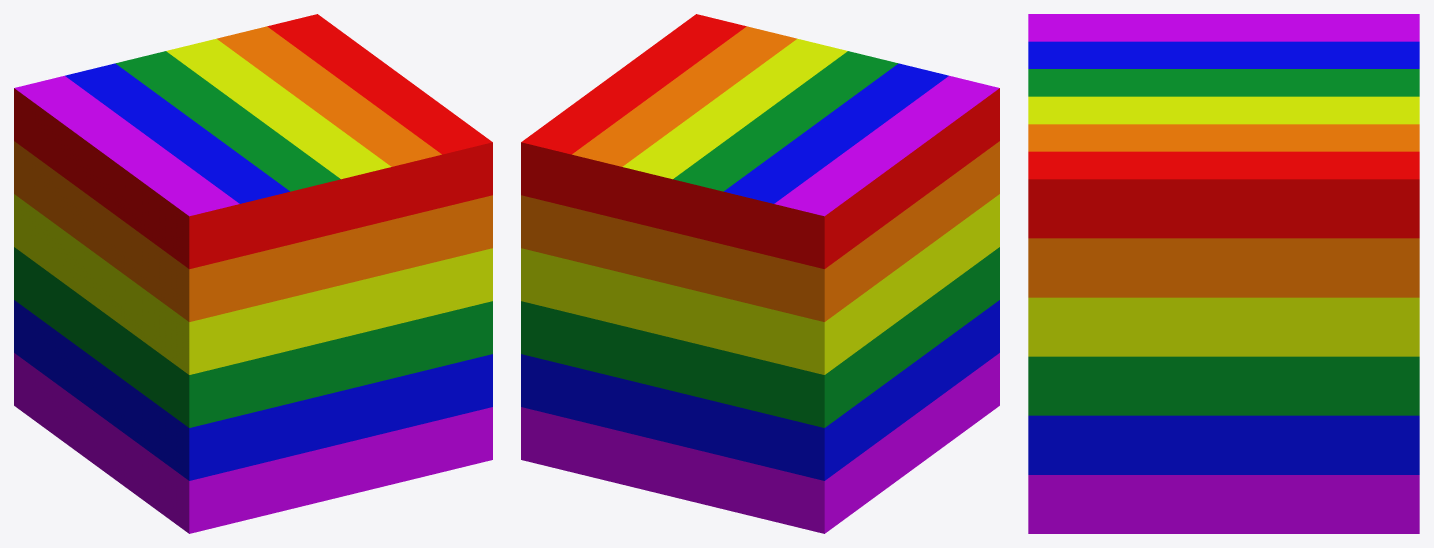
3 views of the same model, side by side, from view 1: azimuth 30°, elevation 25°; view 2: azimuth 150°, elevation 25°; view 3: azimuth 270°, elevation 25° (orthographic). The views are drawn at different scales.
Parts seen in each view (by area): view 1: Объект_Куб, Объект_Куб_1, Объект_Куб_2; view 2: Объект_Куб, Объект_Куб_1, Объект_Куб_2; view 3: Объект_Куб_1, Объект_Куб_2.
Boxes of the visible parts, <box> form: Объект_Куб: <box>189,142,492,533</box>; Объект_Куб_1: <box>14,88,189,533</box>; Объект_Куб_2: <box>14,14,492,216</box>; Объект_Куб: <box>521,142,824,533</box>; Объект_Куб_1: <box>824,88,999,533</box>; Объект_Куб_2: <box>521,14,999,216</box>; Объект_Куб_1: <box>1028,179,1419,533</box>; Объект_Куб_2: <box>1028,14,1419,179</box>.
Size of the model in its own units: 1 by 1 by 1.
